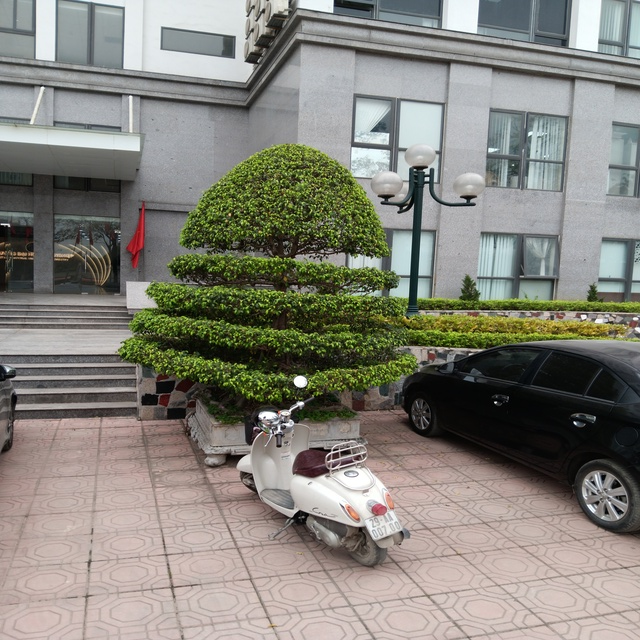caycanh: (155, 153, 406, 466)
